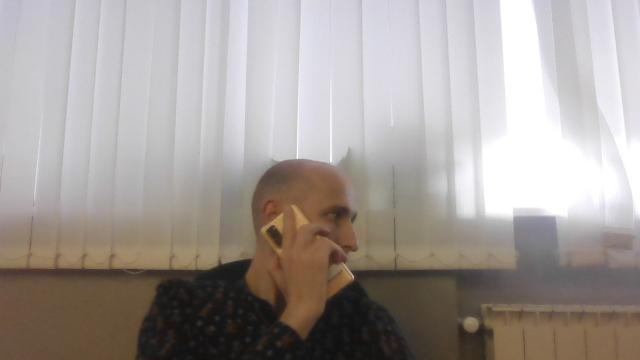Phone: (258, 204, 356, 304)
